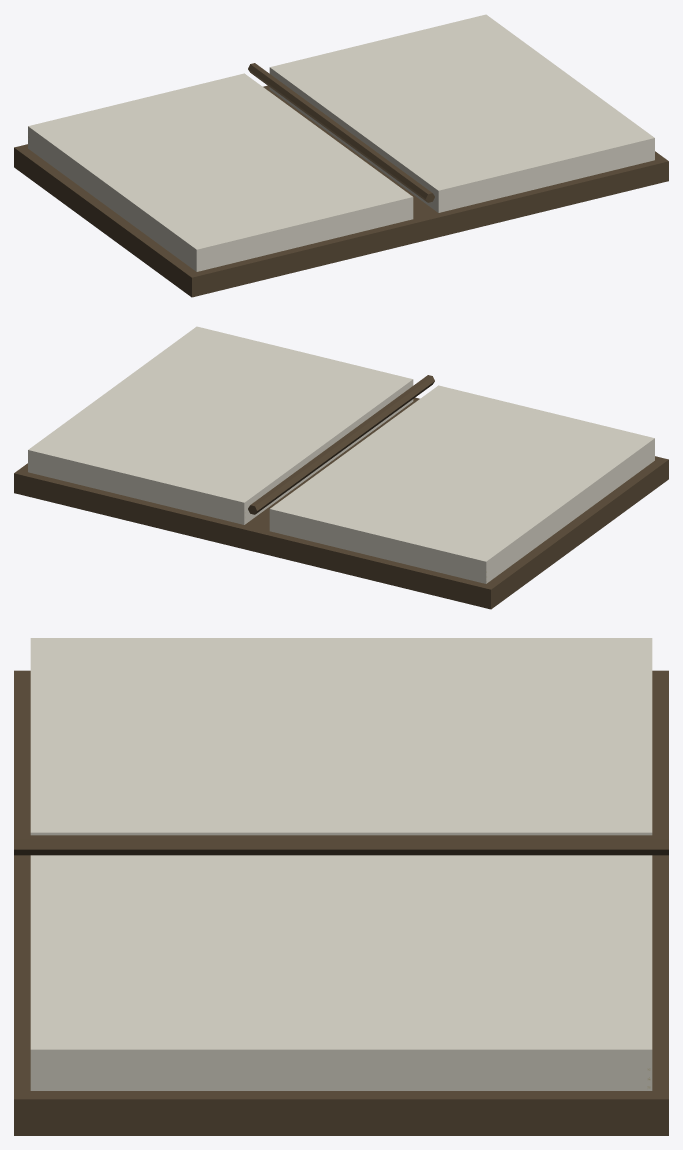
Rendered from blender_ghost_writing_book_2_open.glb.
3 renders of one model, top to bottom at view 1: azimuth 30°, elevation 25°; view 2: azimuth 150°, elevation 25°; view 3: azimuth 270°, elevation 25°, orthographic. The views are drawn at different scales.
Parts seen in each view (by area): view 1: blender_ghost_writing_book_2_open; view 2: blender_ghost_writing_book_2_open; view 3: blender_ghost_writing_book_2_open.
Boxes of the visible parts, x1,y1,x2,y2 form: blender_ghost_writing_book_2_open: (14,14,668,297); blender_ghost_writing_book_2_open: (14,326,668,609); blender_ghost_writing_book_2_open: (14,638,668,1135).
Size of the model in its own units: 0.302 by 0.0276 by 0.195.
1 material, 1 textured.
